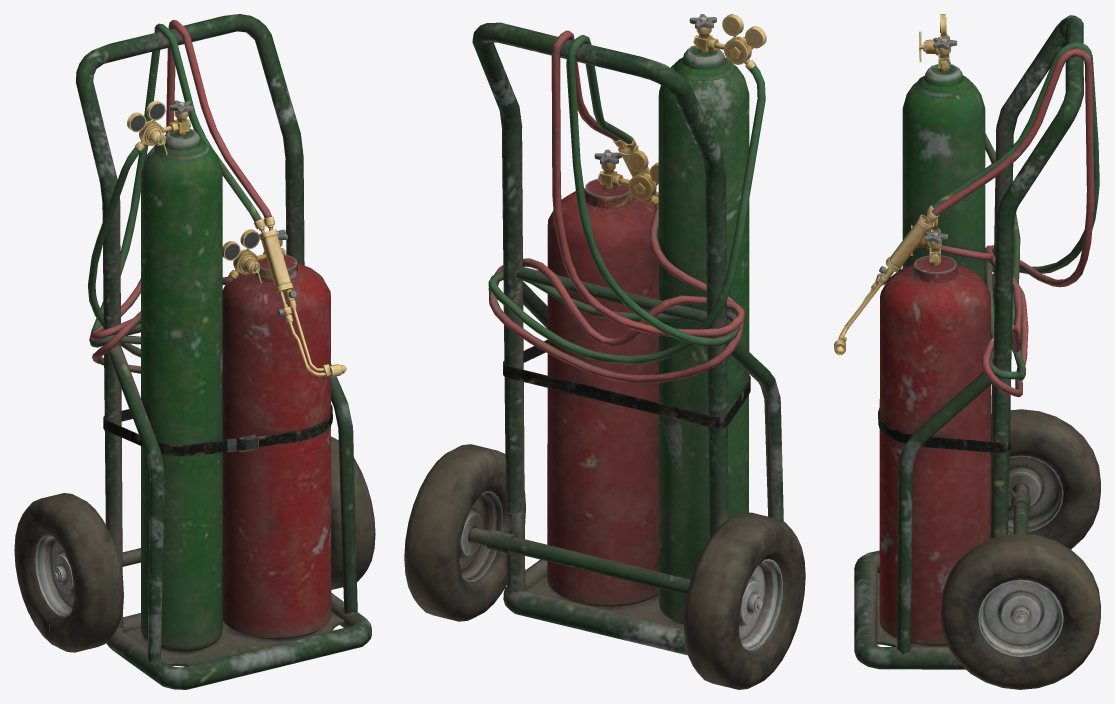
File: portable_welding_cart.glb
3 renders of one model, left to right at view 1: azimuth 30°, elevation 25°; view 2: azimuth 150°, elevation 25°; view 3: azimuth 270°, elevation 25°, orthographic. The views are drawn at different scales.
Parts seen in each view (by area): view 1: portable_welding_cart; view 2: portable_welding_cart; view 3: portable_welding_cart.
Boxes of the visible parts, x1=… form: portable_welding_cart: x1=14, y1=14, x2=375, y2=689; portable_welding_cart: x1=404, y1=14, x2=805, y2=689; portable_welding_cart: x1=834, y1=14, x2=1100, y2=689.
Bounding box in the file's own units: 0.8382 × 1.56 × 0.6541.
2 materials, 2 textured.
